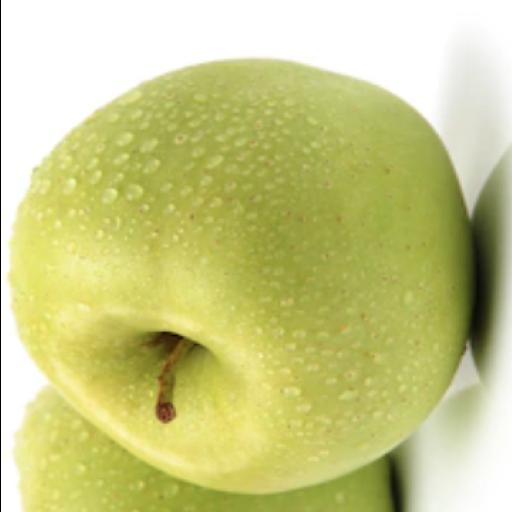apple: (10, 59, 474, 491), (16, 387, 394, 511)
